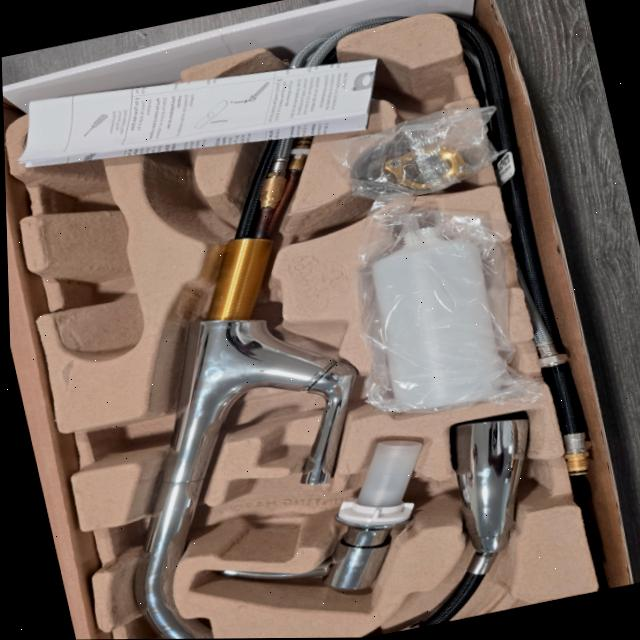1o: (131, 31, 355, 639), (396, 420, 531, 632)
2: (220, 439, 420, 592)
3: (368, 204, 510, 418)
4m: (27, 121, 141, 359)
5m: (115, 97, 204, 145)
6: (330, 102, 504, 212)
7m: (354, 55, 461, 114)
8: (17, 58, 375, 166)
